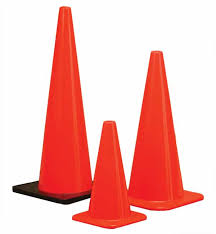cones: (17, 7, 110, 201), (124, 51, 204, 212), (71, 122, 149, 227)
